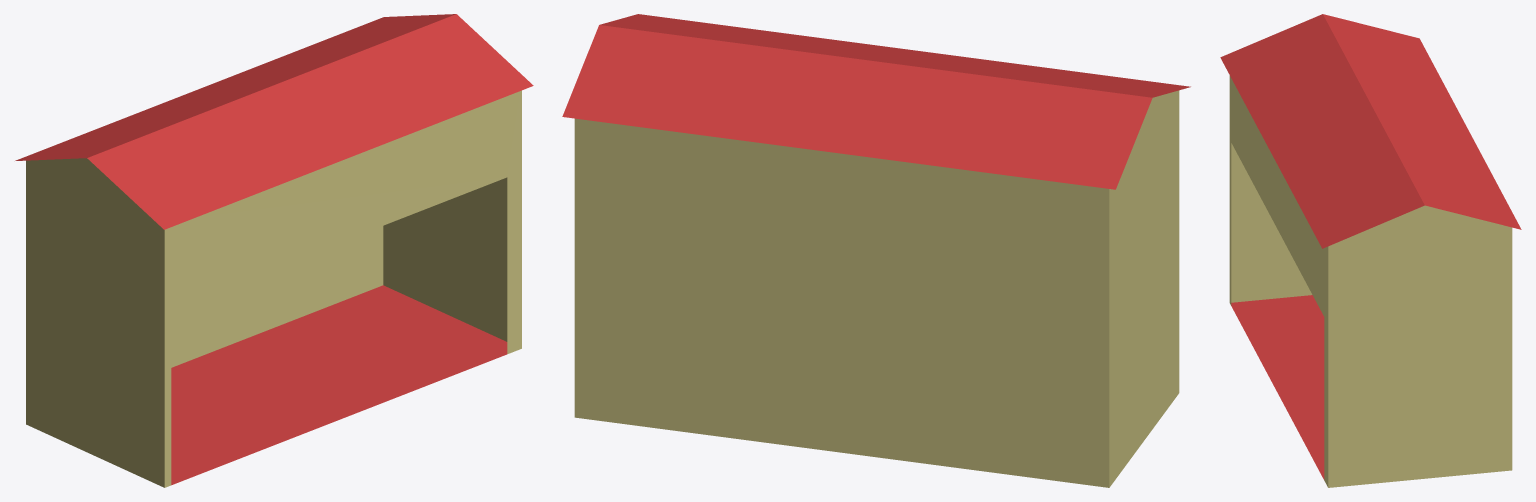
3 views of the same model, side by side, from view 1: azimuth 30°, elevation 25°; view 2: azimuth 150°, elevation 25°; view 3: azimuth 270°, elevation 25° (orthographic). The views are drawn at different scales.
Size of the model in its own units: 15.91 by 9.63 by 9.75.
